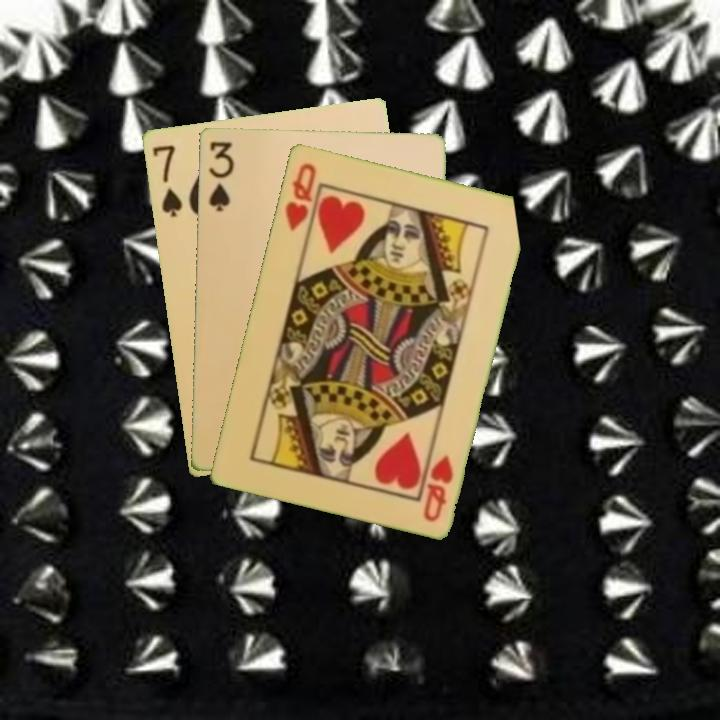3s: (205, 138, 236, 214)
7s: (148, 141, 185, 220)
Qh: (281, 159, 319, 234), (419, 451, 456, 524)
